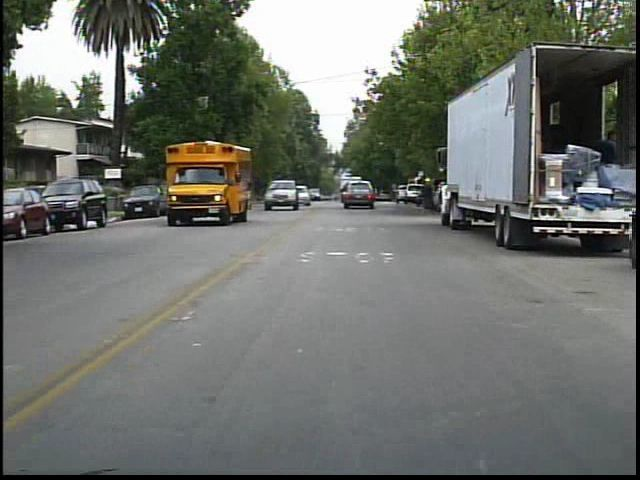person: (415, 173, 438, 221)
